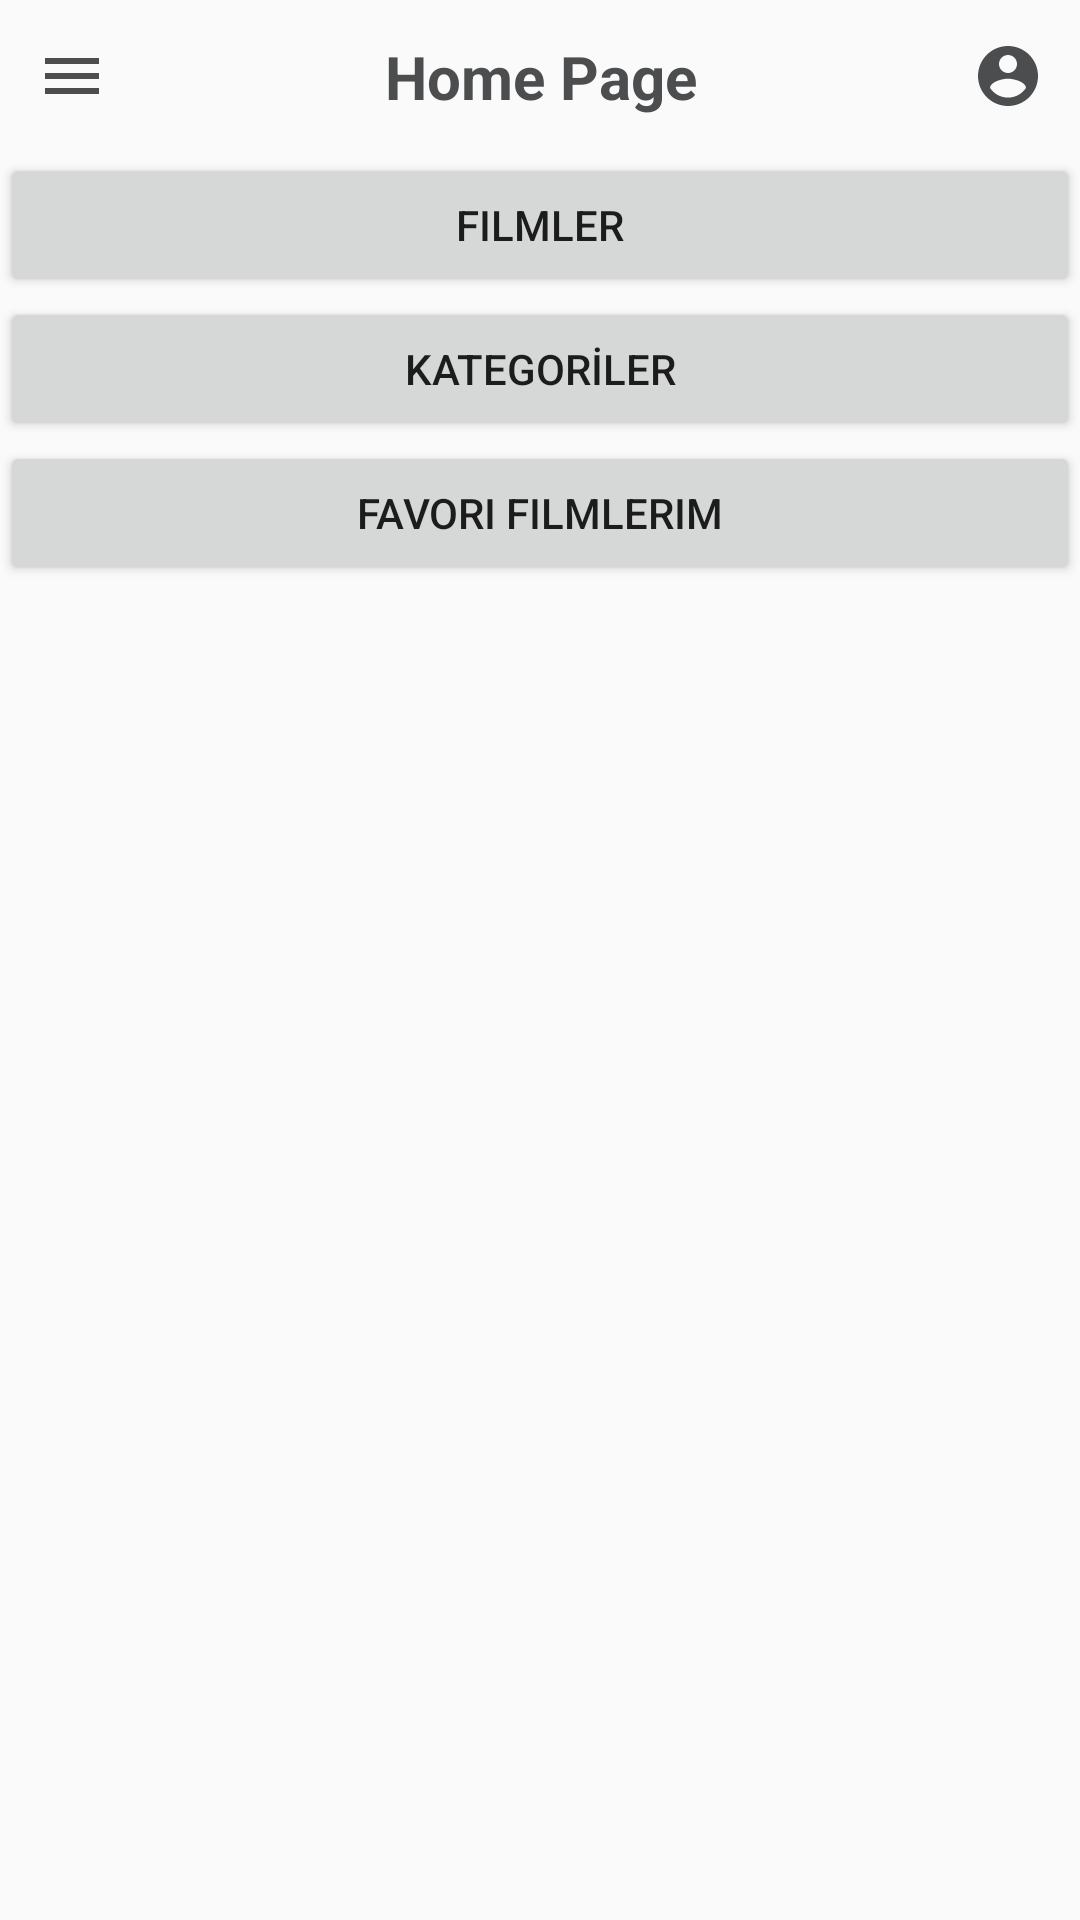

Icon click points for this 1080 × 1920 phone screenshot, format [x,y]:
account: [1008,76]
menu: [72,76]
